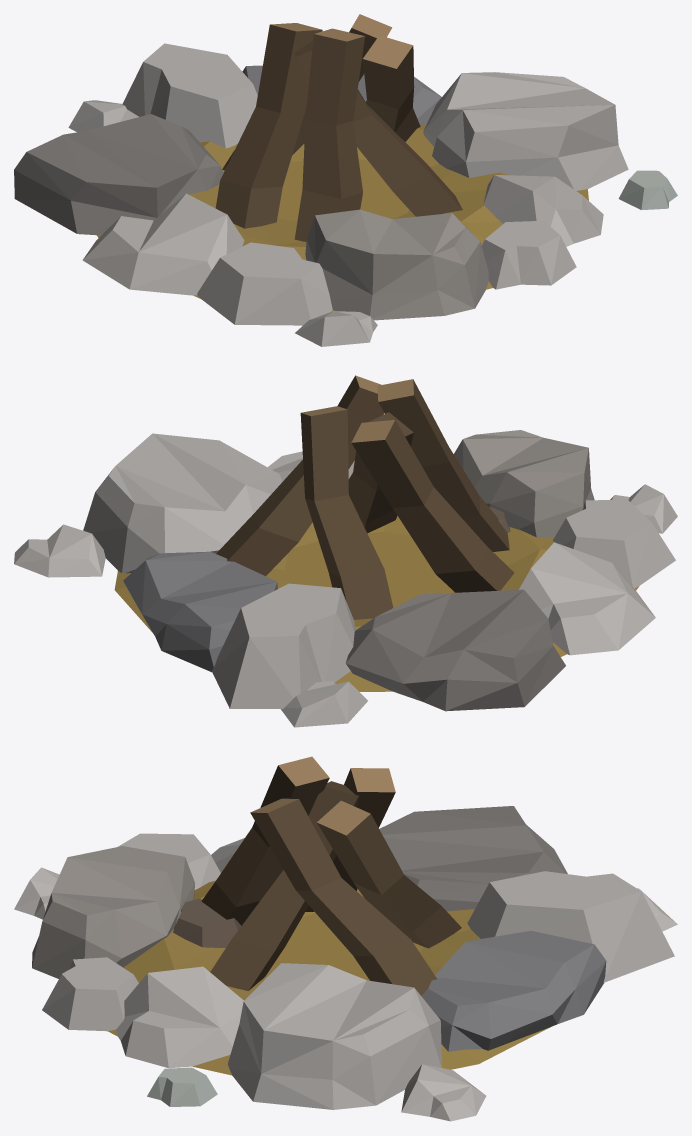
The model's file is SM_Env_CampFire_01.fbx.
The picture shows the model from 3 angles, top to bottom: view 1: azimuth 30°, elevation 25°; view 2: azimuth 150°, elevation 25°; view 3: azimuth 270°, elevation 25°; orthographic projection. The views are drawn at different scales.
Parts seen in each view (by area): view 1: SM_Env_CampFire_01; view 2: SM_Env_CampFire_01; view 3: SM_Env_CampFire_01.
Boxes of the visible parts, x1=… form: SM_Env_CampFire_01: x1=14, y1=14, x2=677, y2=346; SM_Env_CampFire_01: x1=14, y1=375, x2=677, y2=727; SM_Env_CampFire_01: x1=14, y1=756, x2=677, y2=1121.
Bounding box in the file's own units: 0.0153 × 0.006 × 0.0153.
Materials: 1 (1 with a texture image).
